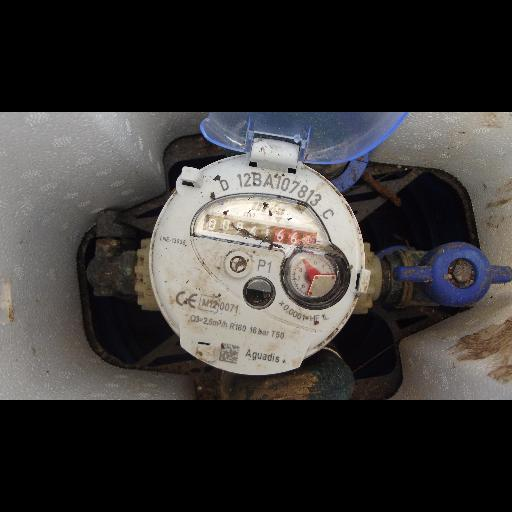0: (203, 214, 220, 233), (217, 217, 234, 236)
1: (257, 224, 275, 243)
6: (244, 222, 261, 241), (286, 228, 303, 246), (300, 231, 317, 249), (272, 226, 288, 244)
9: (231, 219, 247, 237)
border_water_meter_number: (201, 211, 322, 253)
